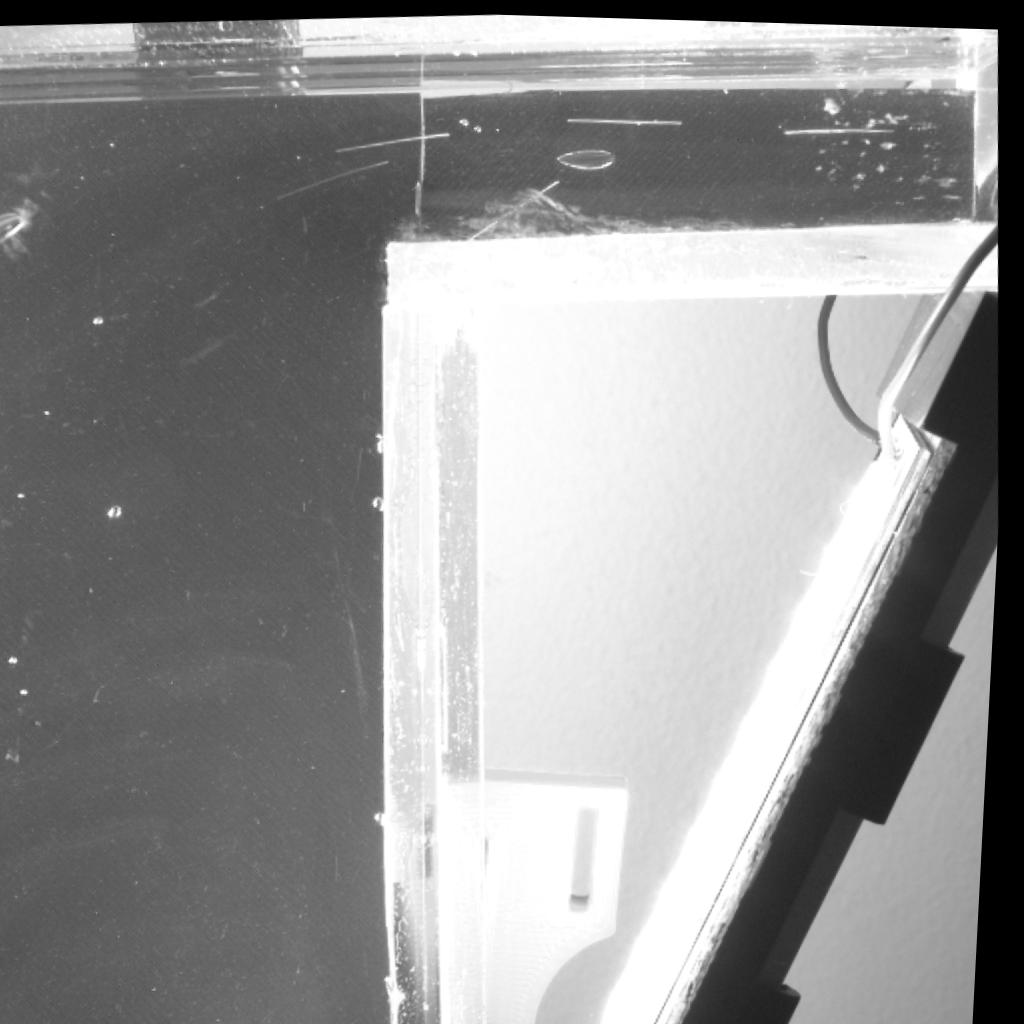Fiber: (462, 172, 567, 246), (274, 154, 391, 205), (338, 124, 452, 155), (780, 117, 898, 133), (570, 109, 689, 123)
